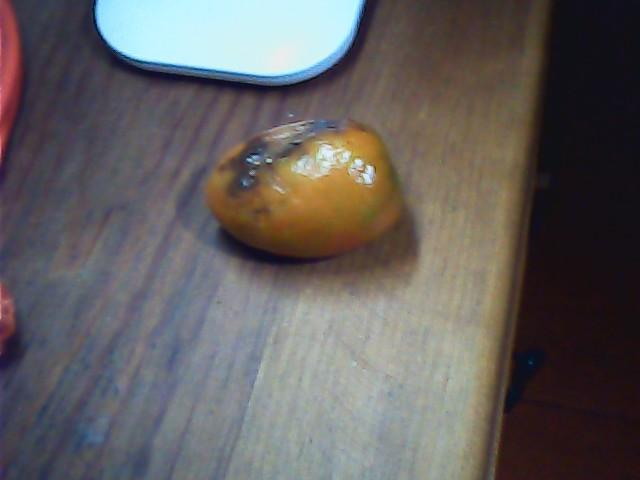defectuoso: (205, 115, 402, 258)
